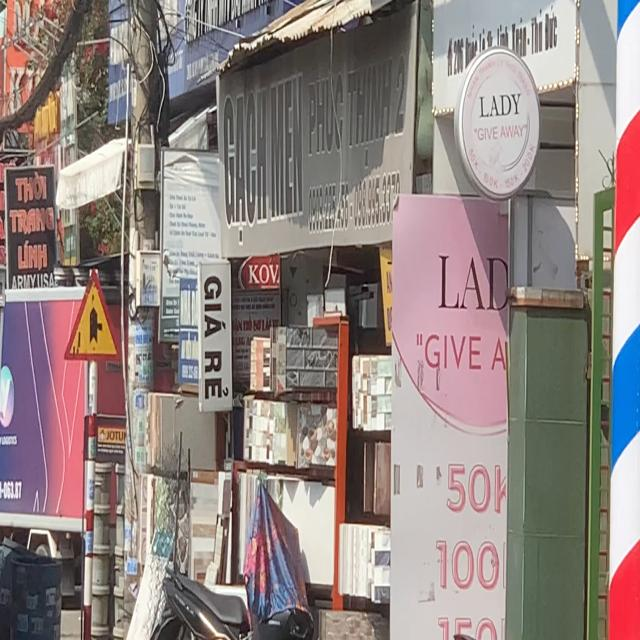Giao voi duong khong uu tien: (61, 259, 121, 366)
